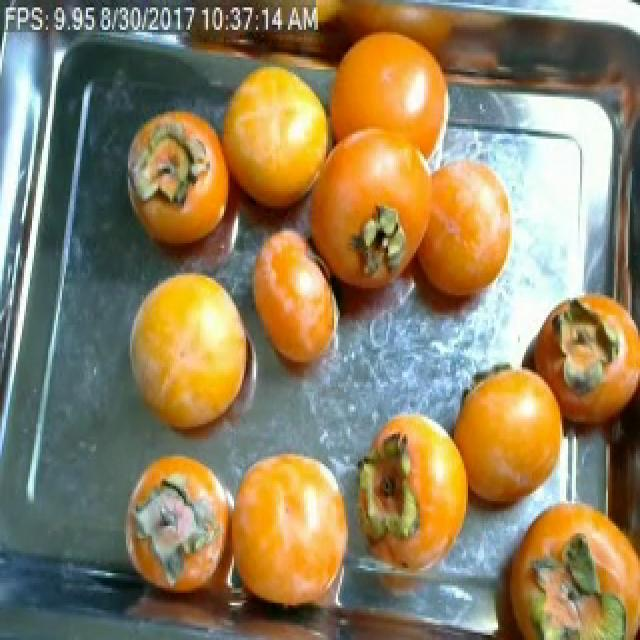Fruit: (370, 136, 528, 348), (116, 258, 266, 454), (346, 394, 486, 600), (218, 429, 352, 630), (208, 50, 350, 233), (438, 345, 570, 538), (238, 213, 356, 400)
